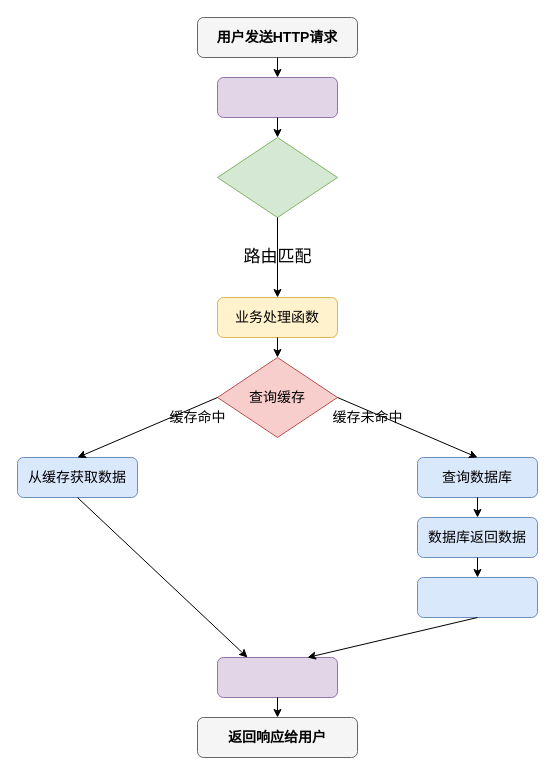
Image size: 555x775. Some labels were removed from this diagram. Here are the shapes that lost their labels. From the top down, the centre of each, then its label:
At pixel 277 97: "Go服务器接收请求".
At pixel 277 177: "Gin路由分发".
At pixel 477 597: "数据写入缓存".
At pixel 277 677: "构建响应".
